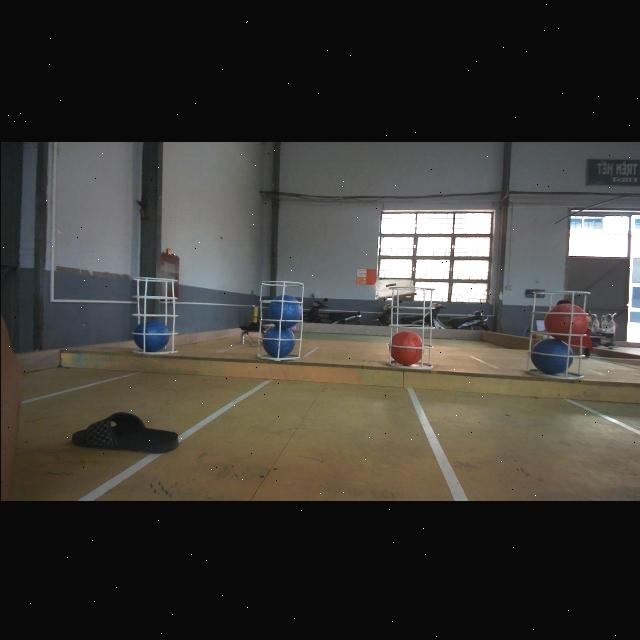B: (526, 338, 572, 374), (132, 318, 170, 350), (267, 293, 301, 327), (262, 326, 294, 356)
R: (544, 302, 586, 338), (389, 330, 423, 364)
